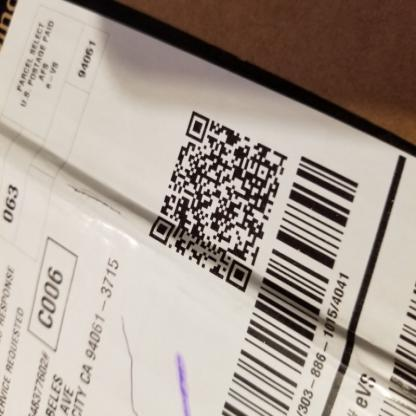barcode: (220, 153, 365, 416), (376, 270, 416, 416)
qr: (139, 107, 293, 299)
